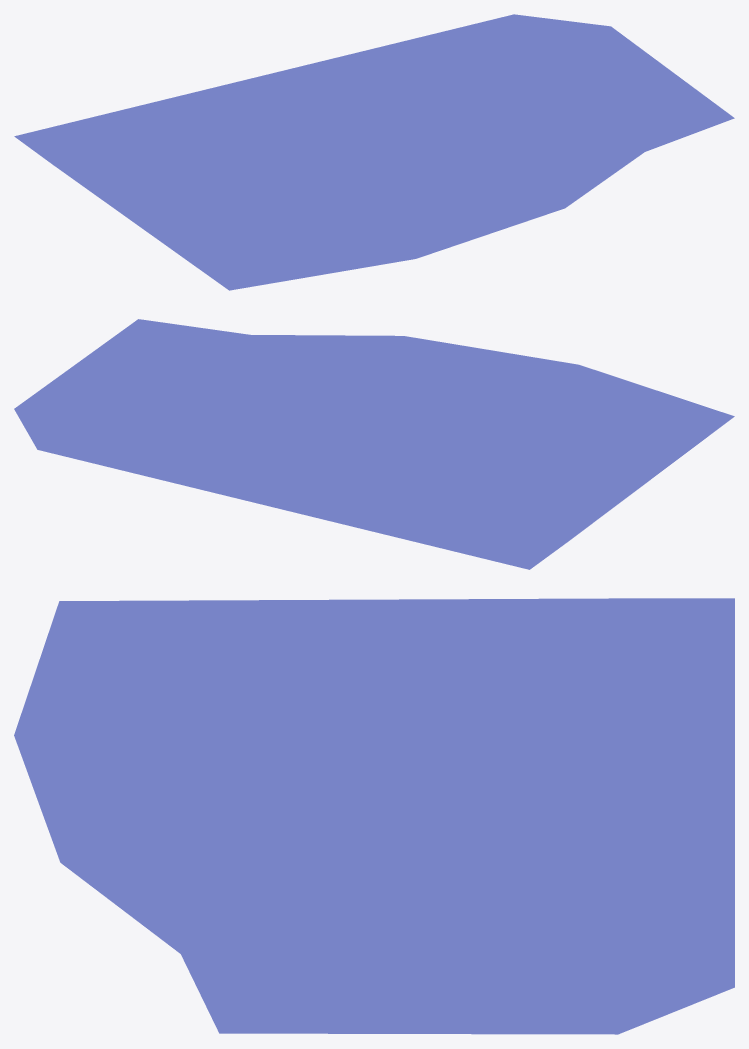
The model's file is terrain_W4A5_water.fbx.
The picture shows the model from 3 angles, top to bottom: view 1: azimuth 30°, elevation 25°; view 2: azimuth 150°, elevation 25°; view 3: azimuth 270°, elevation 25°; orthographic projection. The views are drawn at different scales.
Visible parts, largest first — view 1: W4A5water; view 2: W4A5water; view 3: W4A5water.
Boxes of the visible parts, box(x1,y1,x2,y2) form: W4A5water: box(14, 14, 734, 290); W4A5water: box(14, 319, 734, 569); W4A5water: box(14, 598, 734, 1034).
Bounding box in the file's own units: 39851 × 0.000686 × 27849.
